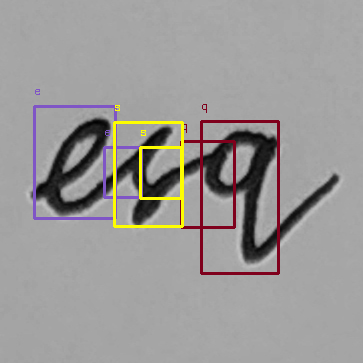e: (35, 113, 114, 216)
q: (197, 124, 287, 269)
s: (119, 120, 183, 230)
